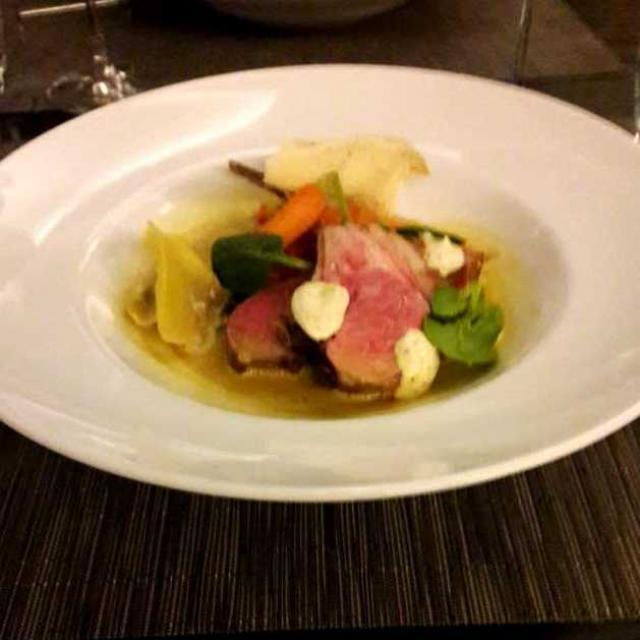meat: (238, 219, 434, 398)
sauce: (118, 194, 544, 434)
